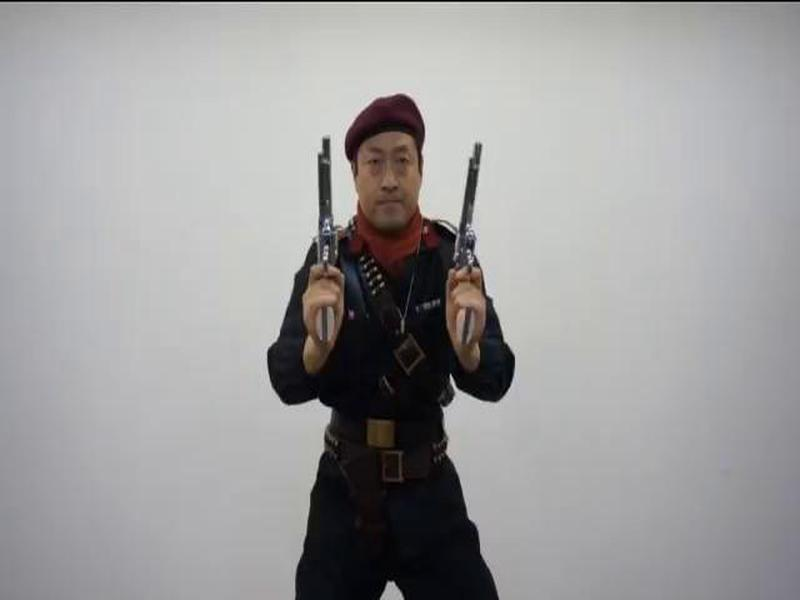Revolver: (297, 128, 356, 352), (454, 133, 499, 350)
